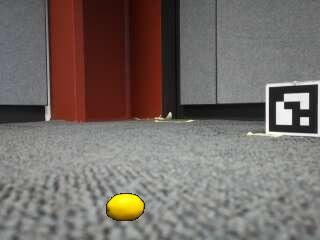lemon: (108, 195, 145, 221)
